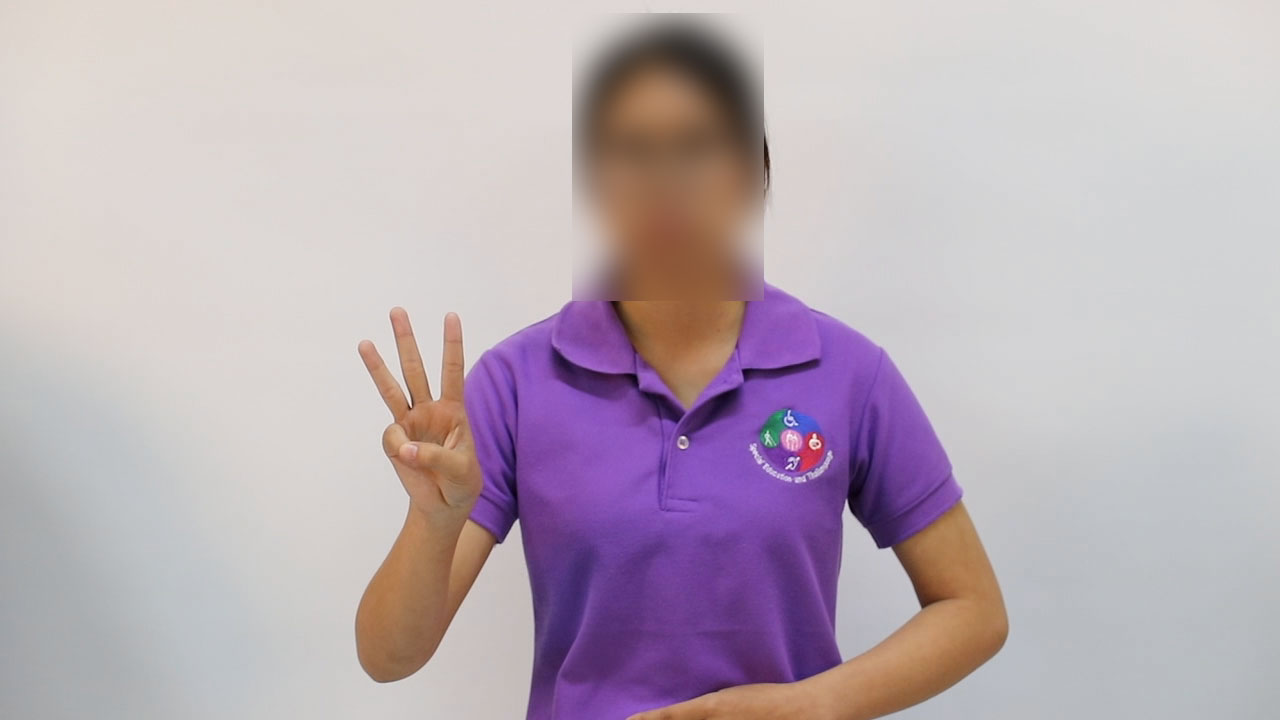wor: (353, 298, 489, 532)
